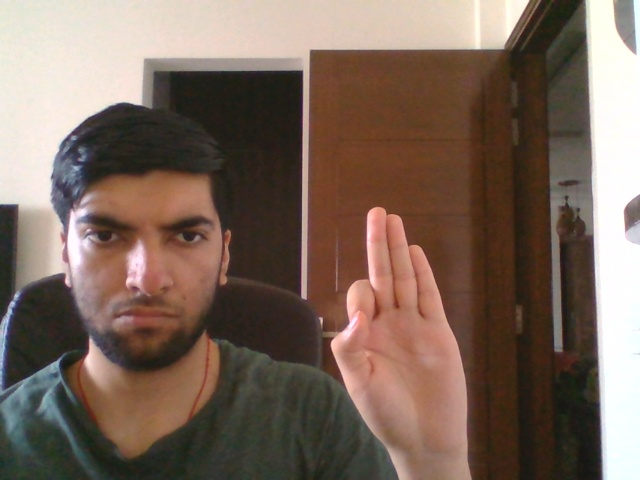LetterF: (330, 206, 469, 459)
